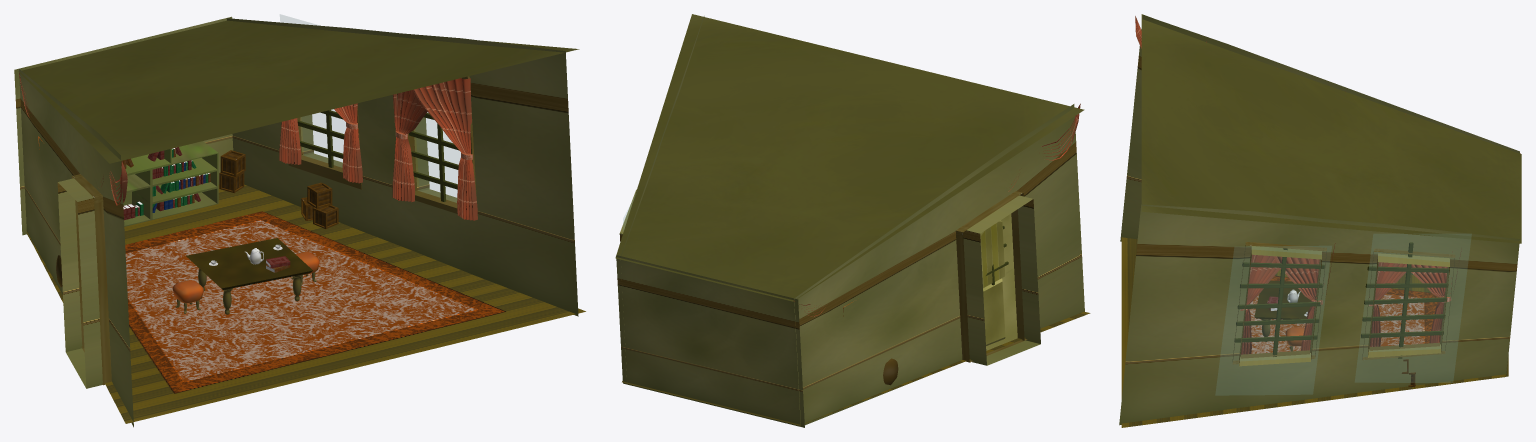
Rendered from 303_bg_aliceB.fbx.
3 views of the same model, side by side, from view 1: azimuth 30°, elevation 25°; view 2: azimuth 150°, elevation 25°; view 3: azimuth 270°, elevation 25° (orthographic). The views are drawn at different scales.
Parts seen in each view (by area): view 1: floor, pPlane2, pPlane4, polySurface1, pPlane8, Hondana, pCube31, polySurface3, pPlane9, pPlane5, pPlane16, pPlane17 (+5 smaller); view 2: pPlane4, polySurface1, pPlane5, polySurface4, polySurface3, floor, pPlane2; view 3: pPlane2, pPlane4, pPlane17, pPlane16, floor, polySurface1, pPlane8, pPlane9, pPlane6, pPlane7, pCube31, pCube14 (+11 smaller).
Boxes of the visible parts, box(x1,y1,x2,y2) form: floor: box(26, 184, 585, 423); pPlane2: box(227, 18, 578, 316); pPlane4: box(18, 20, 579, 163); polySurface1: box(19, 69, 133, 427); pPlane8: box(392, 78, 477, 220); Hondana: box(123, 141, 218, 226); pCube31: box(186, 238, 312, 289); polySurface3: box(71, 174, 111, 385); pPlane9: box(279, 103, 362, 183); pPlane5: box(14, 16, 233, 235); pPlane16: box(416, 118, 460, 202); pPlane17: box(280, 14, 345, 166); pPlane4: box(615, 14, 1084, 301); polySurface1: box(794, 104, 1084, 426); pPlane5: box(616, 255, 804, 427); polySurface4: box(980, 214, 1017, 350); polySurface3: box(955, 191, 1027, 362); floor: box(622, 311, 1090, 425); pPlane2: box(619, 16, 704, 382); pPlane2: box(1119, 204, 1519, 425); pPlane4: box(1141, 14, 1521, 243); pPlane17: box(1355, 234, 1471, 382); pPlane16: box(1216, 246, 1331, 394); floor: box(1121, 237, 1508, 427); polySurface1: box(1120, 15, 1519, 274); pPlane8: box(1241, 243, 1335, 354); pPlane9: box(1369, 248, 1461, 346); pPlane6: box(1232, 242, 1326, 364); pPlane7: box(1362, 248, 1455, 360); pCube31: box(1254, 280, 1311, 319); pCube14: box(1273, 248, 1287, 356).
Size of the model in its own units: 1611 by 861 by 1386.
